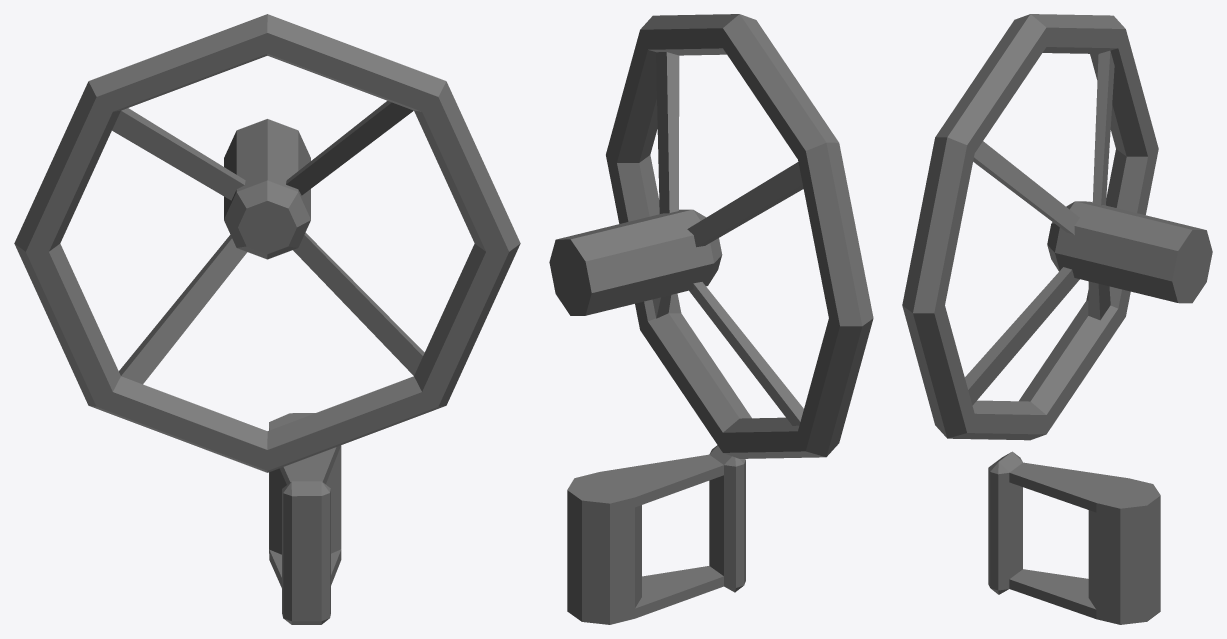
The model's file is FinishInteractable.glb.
3 renders of one model, left to right at view 1: azimuth 30°, elevation 25°; view 2: azimuth 150°, elevation 25°; view 3: azimuth 270°, elevation 25°, orthographic. The views are drawn at different scales.
Visible parts, largest first — view 1: FinishInteractable; view 2: FinishInteractable; view 3: FinishInteractable.
Boxes of the visible parts, bbox=[...] form: FinishInteractable: bbox=[14, 14, 520, 624]; FinishInteractable: bbox=[549, 14, 873, 624]; FinishInteractable: bbox=[902, 14, 1212, 624].
Bounding box in the file's own units: 0.3811 × 0.5824 × 0.2905.
1 material, 1 textured.
